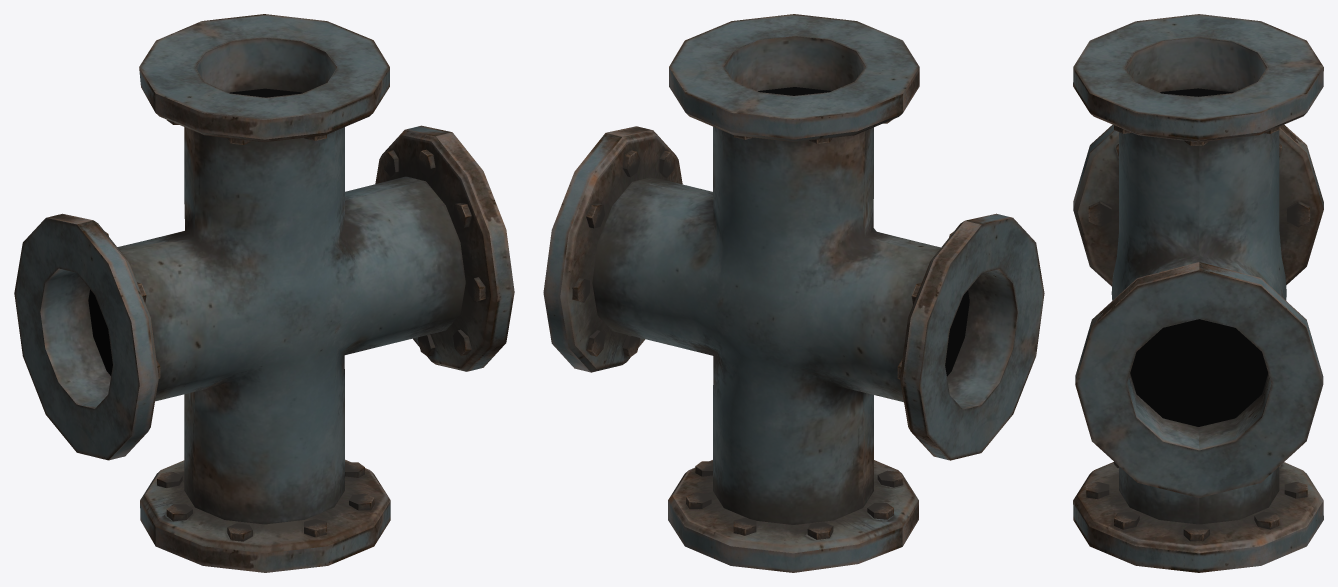
Rendered from pipe07.gltf.
3 renders of one model, left to right at view 1: azimuth 30°, elevation 25°; view 2: azimuth 150°, elevation 25°; view 3: azimuth 270°, elevation 25°, orthographic.
Parts seen in each view (by area): view 1: modular_industrial_pipes_01_pipe07; view 2: modular_industrial_pipes_01_pipe07; view 3: modular_industrial_pipes_01_pipe07.
Part boxes in pixels (left/top/right/bottom): modular_industrial_pipes_01_pipe07: left=14, top=14, right=514, bottom=572; modular_industrial_pipes_01_pipe07: left=543, top=14, right=1044, bottom=572; modular_industrial_pipes_01_pipe07: left=1073, top=14, right=1323, bottom=572.
Bounding box in the file's own units: 0.3568 × 0.4111 × 0.2064.
Materials: 1 (1 with a texture image).
